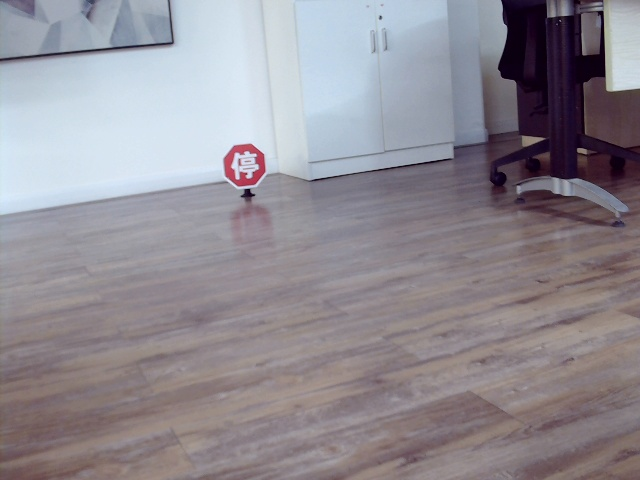stop: (228, 150, 259, 179)
